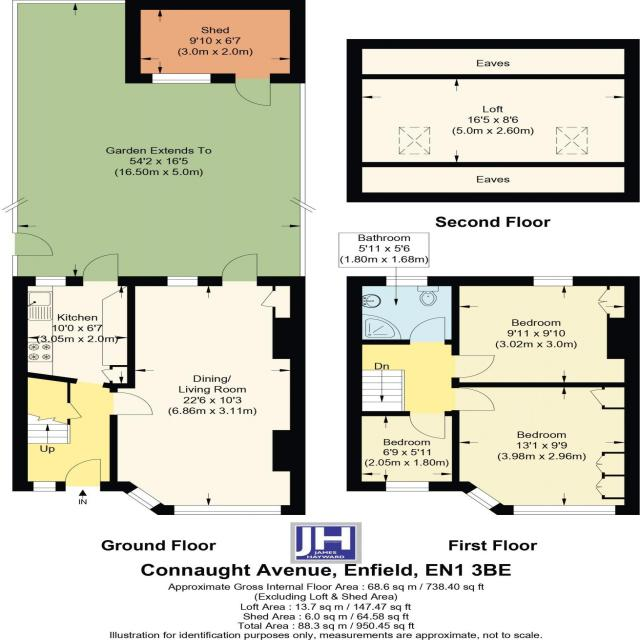DOOR: (233, 73, 272, 107), (64, 458, 102, 492), (81, 253, 120, 286), (220, 253, 259, 286), (408, 316, 447, 345), (109, 391, 154, 416), (451, 354, 496, 379), (408, 411, 446, 439), (451, 387, 495, 411)
ROOM: (109, 253, 305, 515), (12, 253, 156, 492), (451, 382, 640, 515), (451, 276, 640, 388), (346, 411, 460, 492)
WINDOW: (170, 505, 284, 517), (512, 505, 617, 515), (123, 485, 162, 511), (464, 486, 501, 510), (150, 73, 211, 84), (385, 481, 430, 492), (531, 276, 574, 286), (385, 276, 428, 286), (33, 276, 67, 287), (165, 276, 199, 287), (31, 481, 57, 492)
